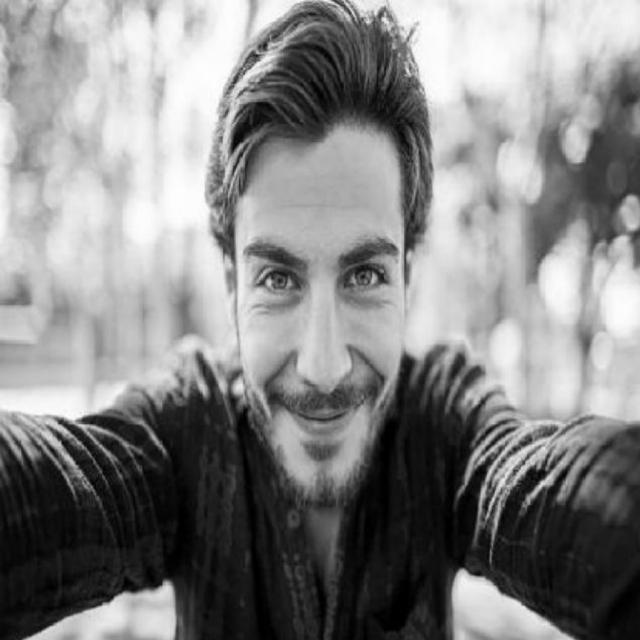Happy: (215, 77, 422, 525)
